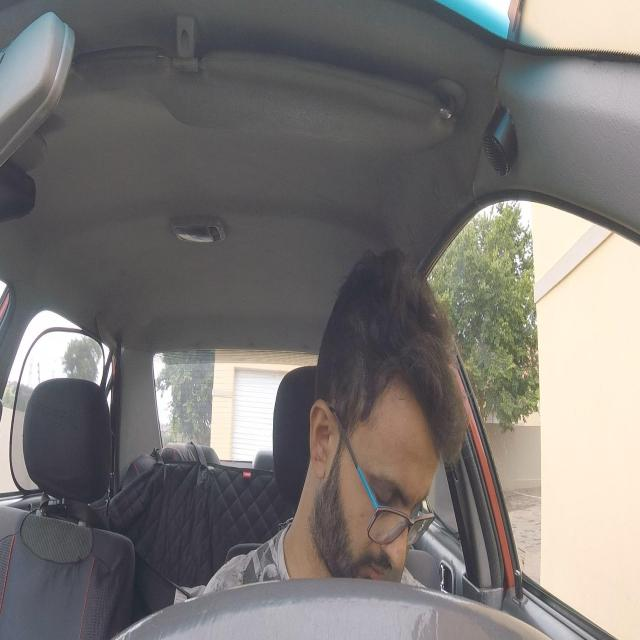close: (363, 473, 406, 517)
